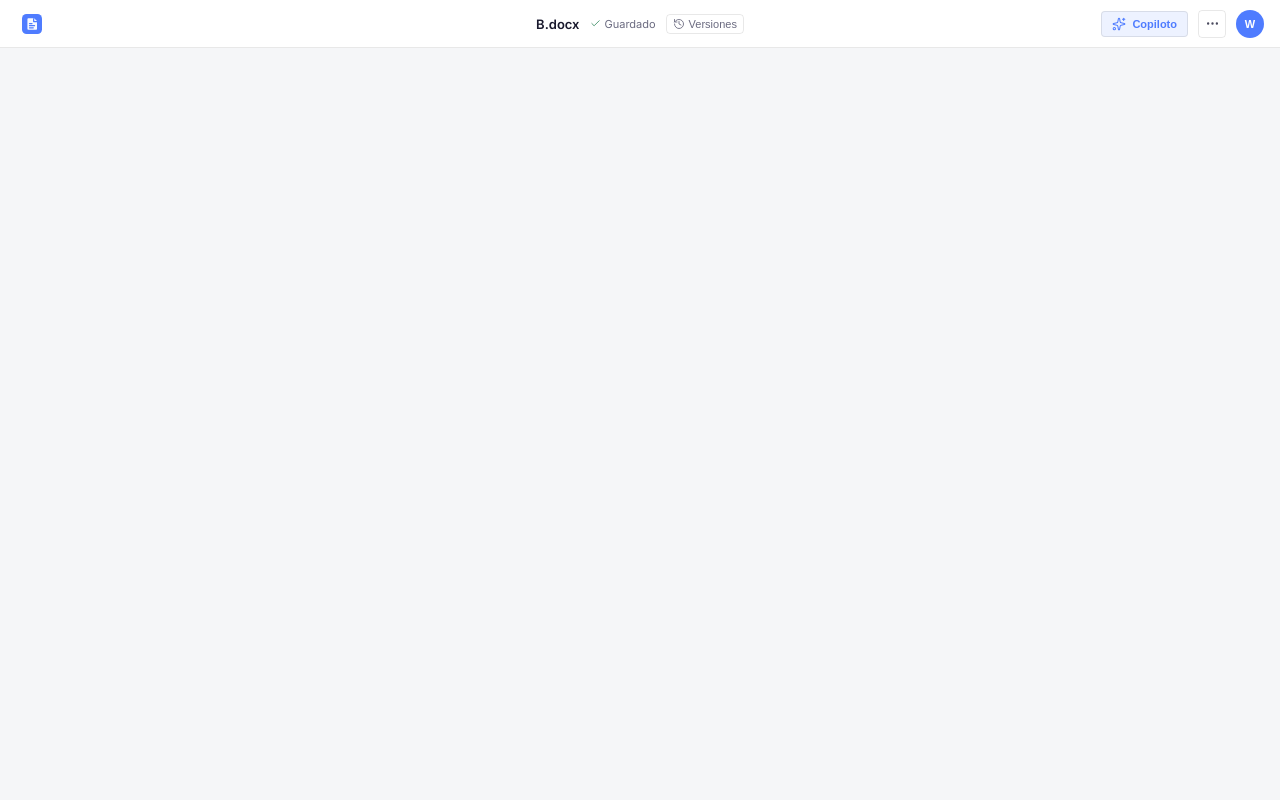
T7 — la barra mínima › un clic afuera cierra el menú
The image size is (1280, 800).
Click the button named "Más acciones". click: point(1212, 24)
box: [1198,10,1226,38]
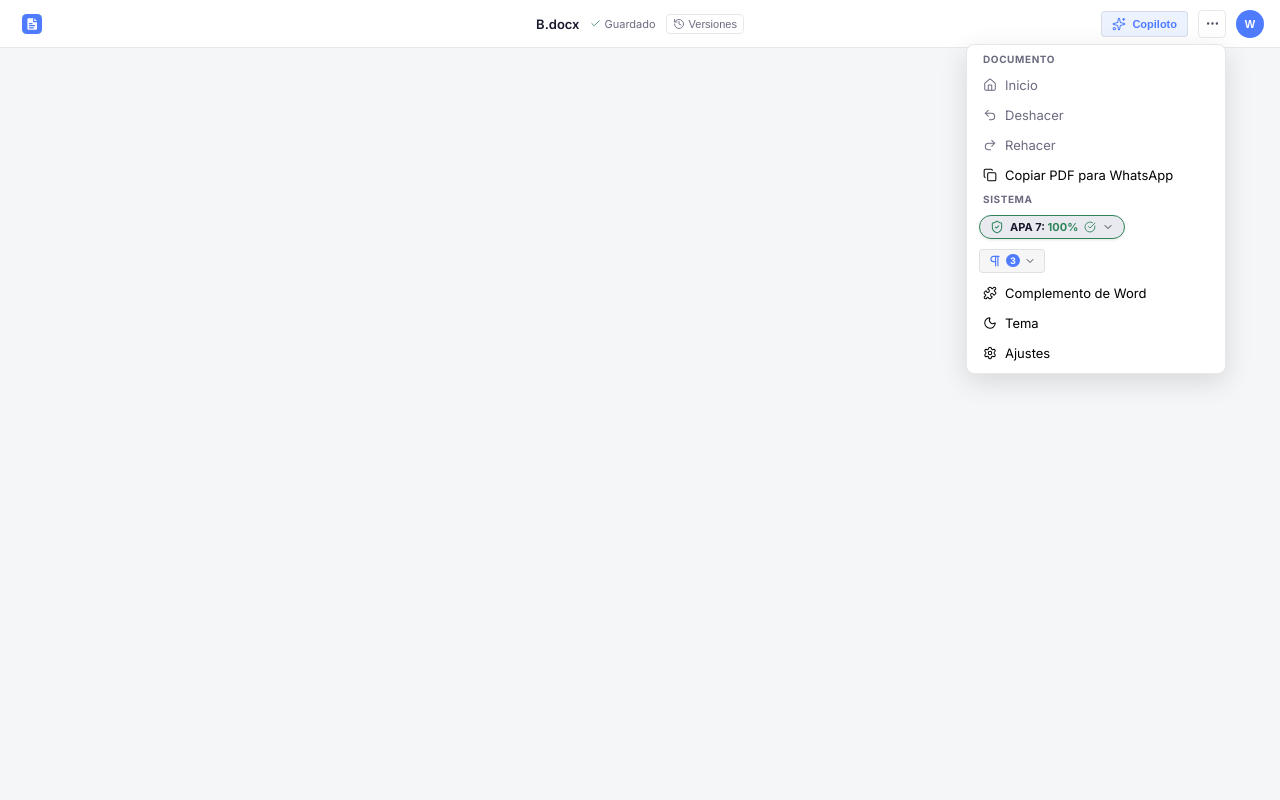
Expected: the menu is shown, [966,44,1226,374]
Press the mouse on the element that starts with "B.docx" at point(640, 400), box [0,0,1279,799]
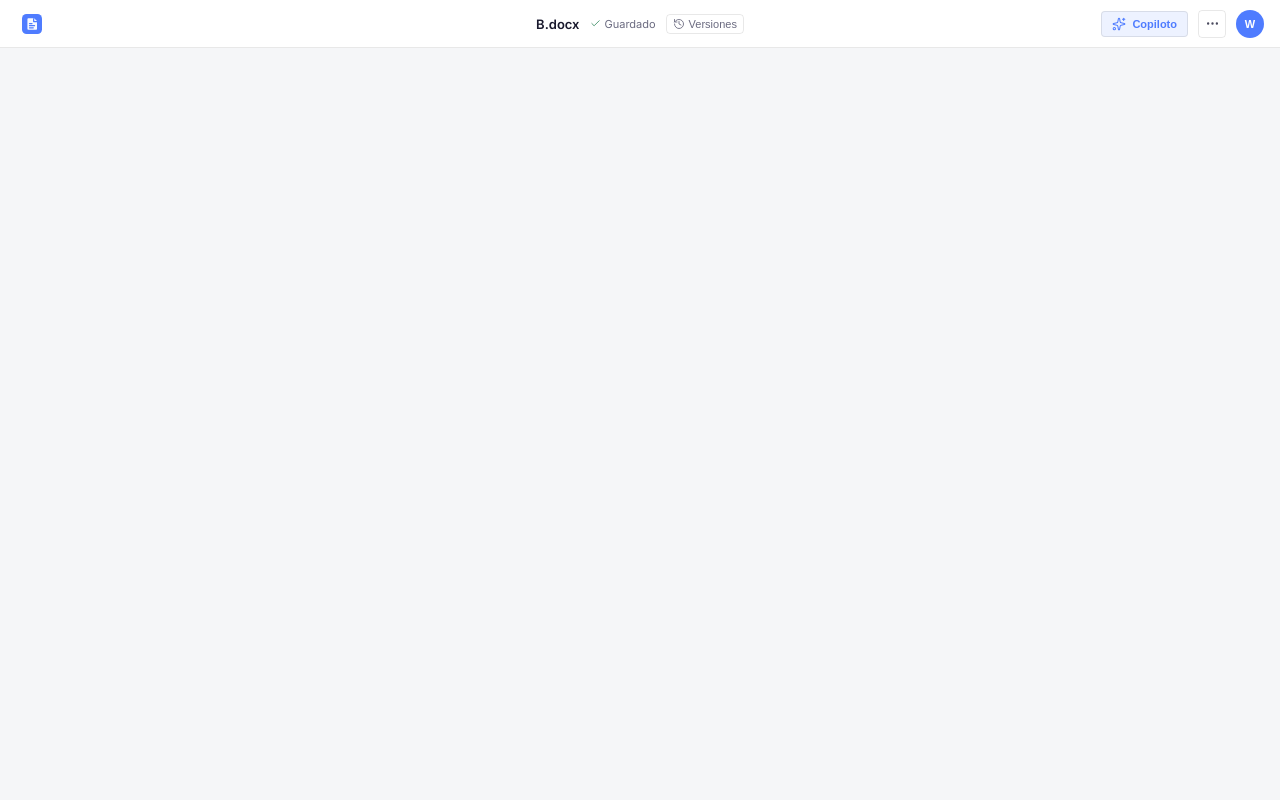
Expected: the menu is gone
